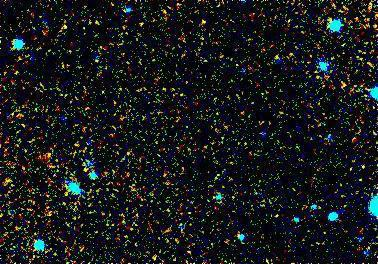star: (67, 155, 97, 185)
